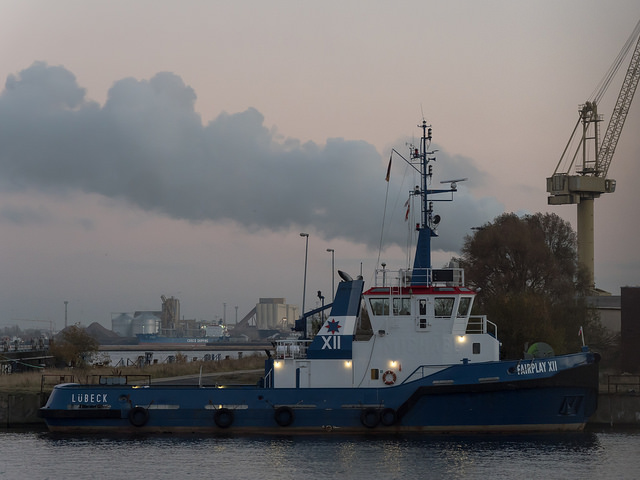tug_boat: (37, 167, 622, 448)
